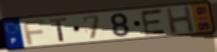7: (82, 14, 102, 40)
8: (110, 12, 132, 38)
E: (140, 8, 169, 37)
F: (21, 18, 47, 46)
H: (164, 5, 197, 35)
T: (48, 17, 69, 43)
